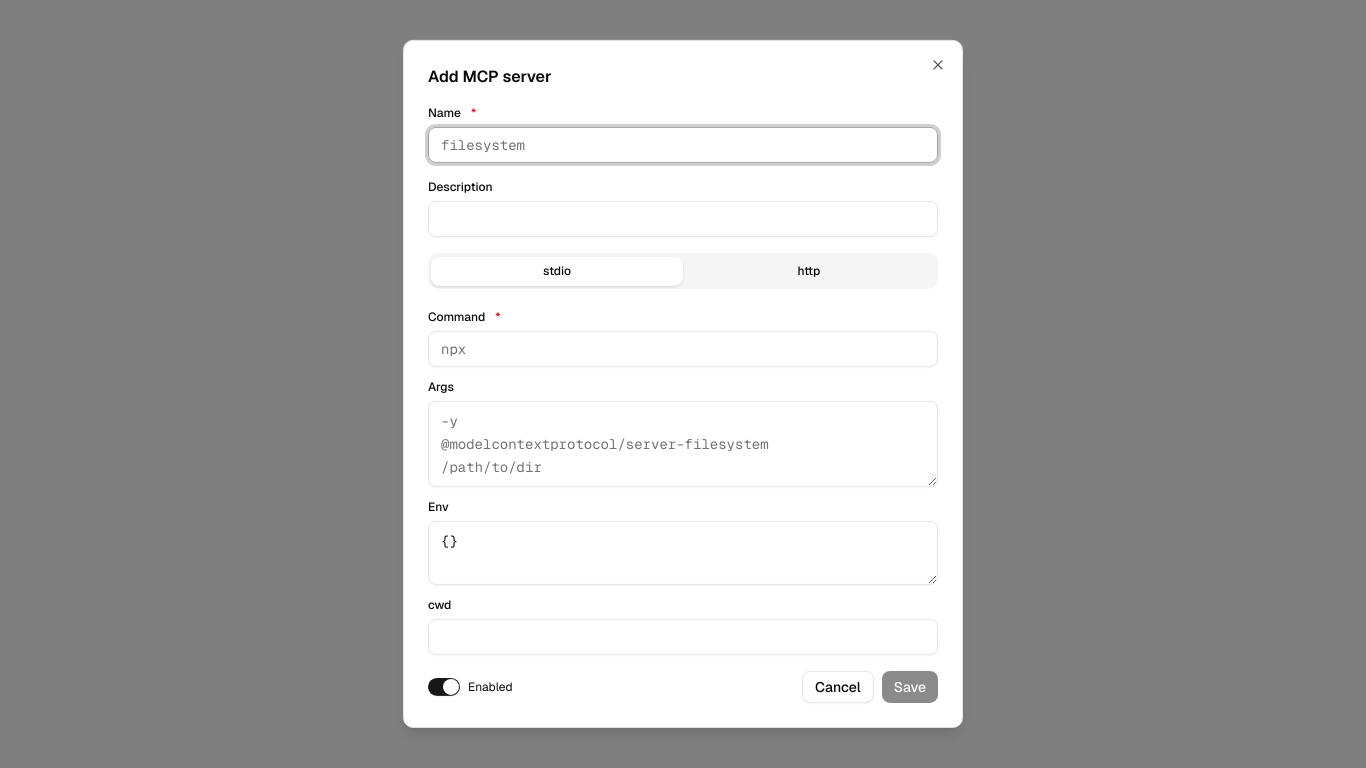
Test: McpFormDialog › transport tab switching › shows stdio fields after switching back
This screenshot has width=1366, height=768.
Step 1. Click the tab "http" → (809, 271), box 683,256 -> 935,285
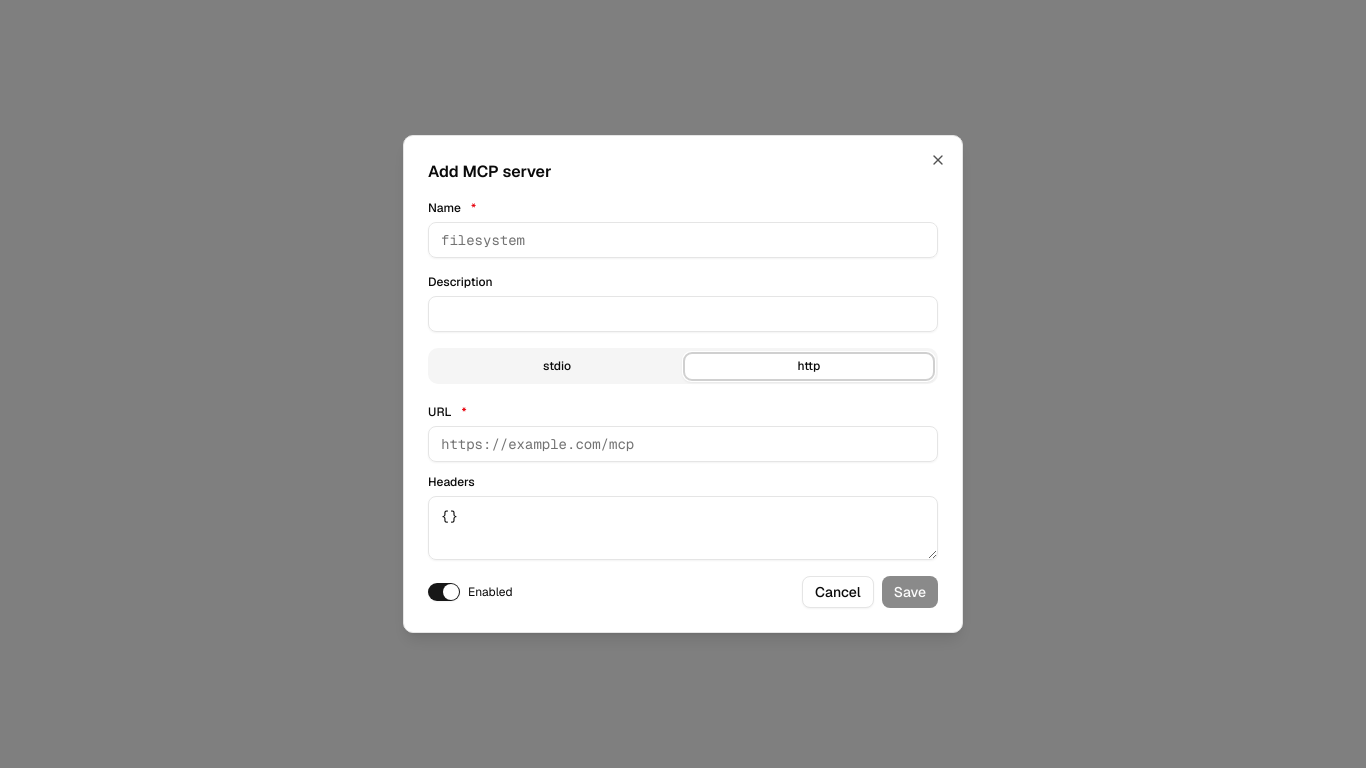
Step 2. Click the tab "stdio" → (557, 366), box 431,352 -> 683,380
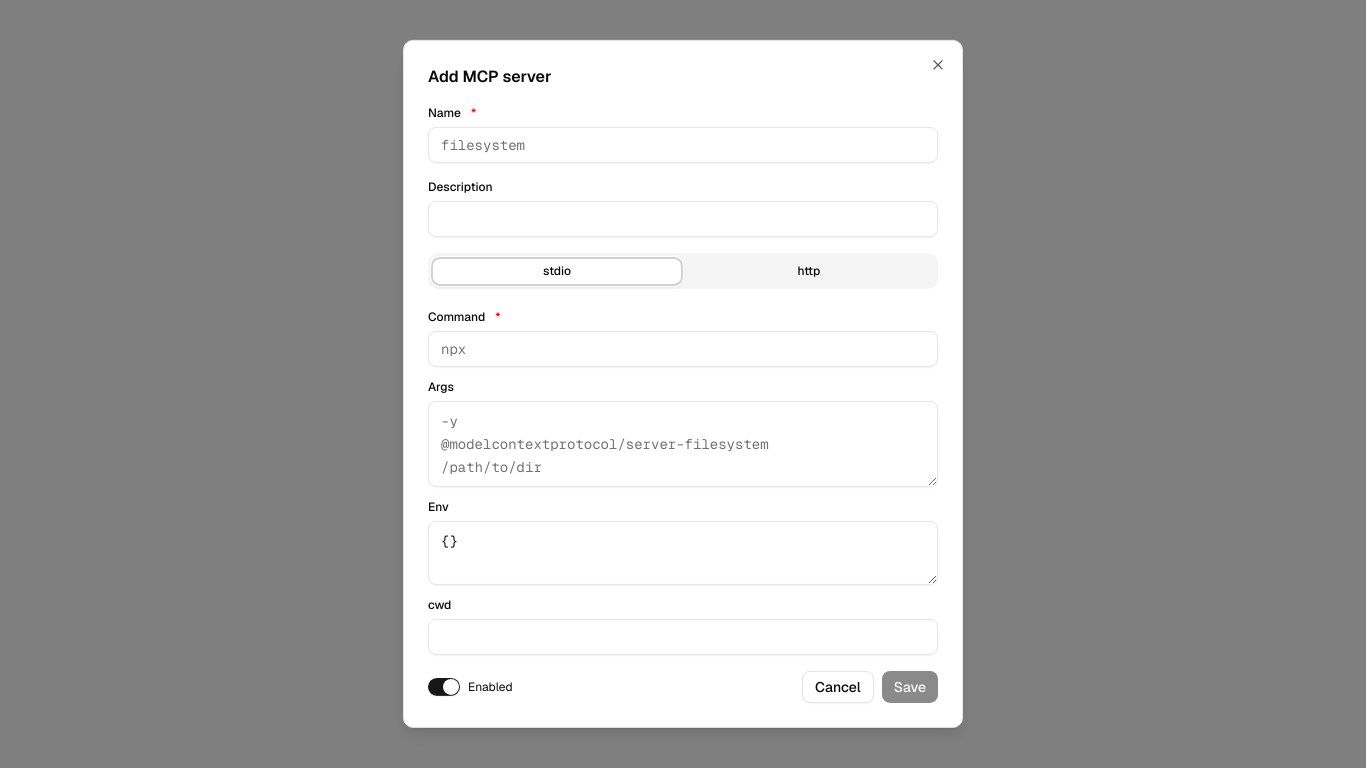
Now the field labelled "Command *" is shown, box 428,331 -> 938,367
Now the label "URL" is gone
